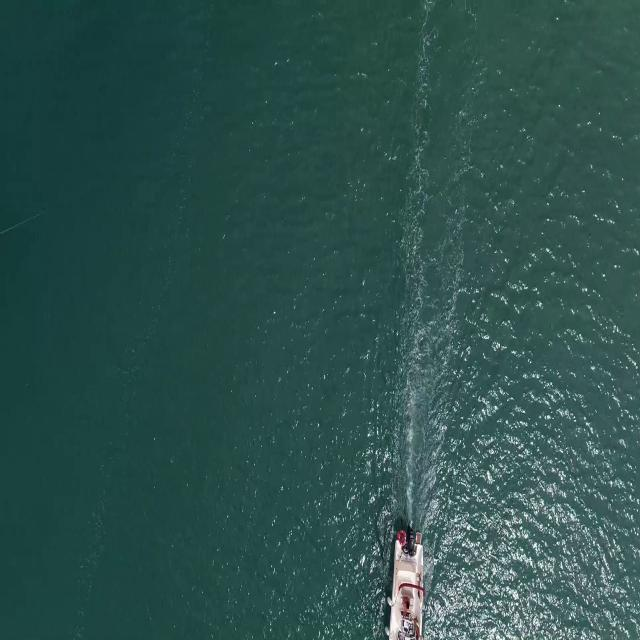boat: (387, 542, 428, 640)
life_buoy: (396, 525, 407, 545)
person: (401, 593, 411, 617), (412, 617, 422, 639)
